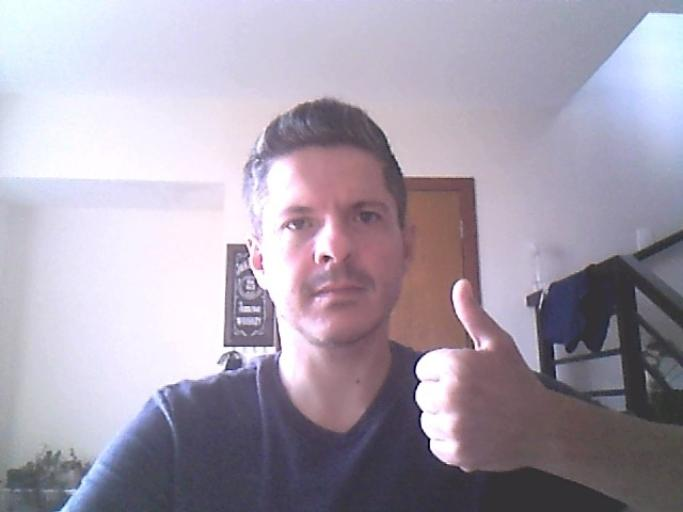like: (405, 275, 545, 476)
